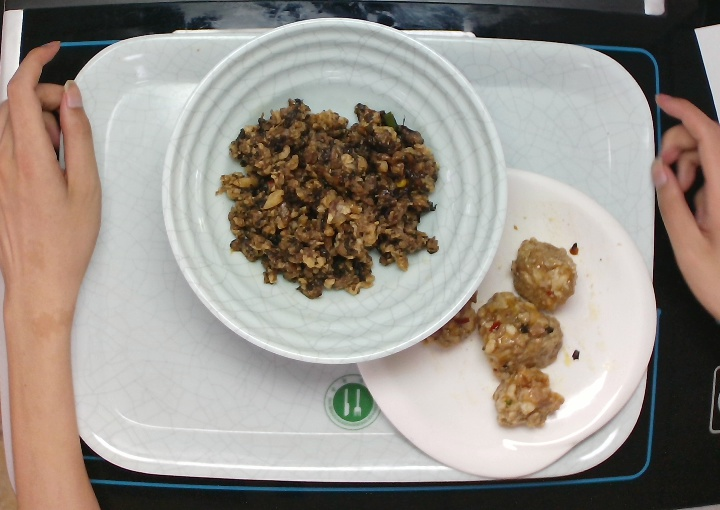JYsf-Da_Tang_Wan: (158, 14, 510, 366)
JYsf-Mian_Pan: (351, 164, 662, 483)
